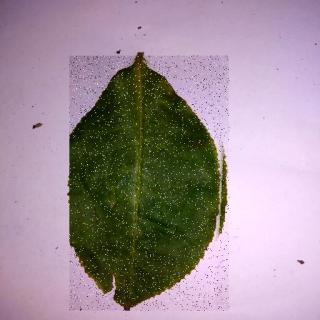Anthracnose: (71, 57, 231, 312)
